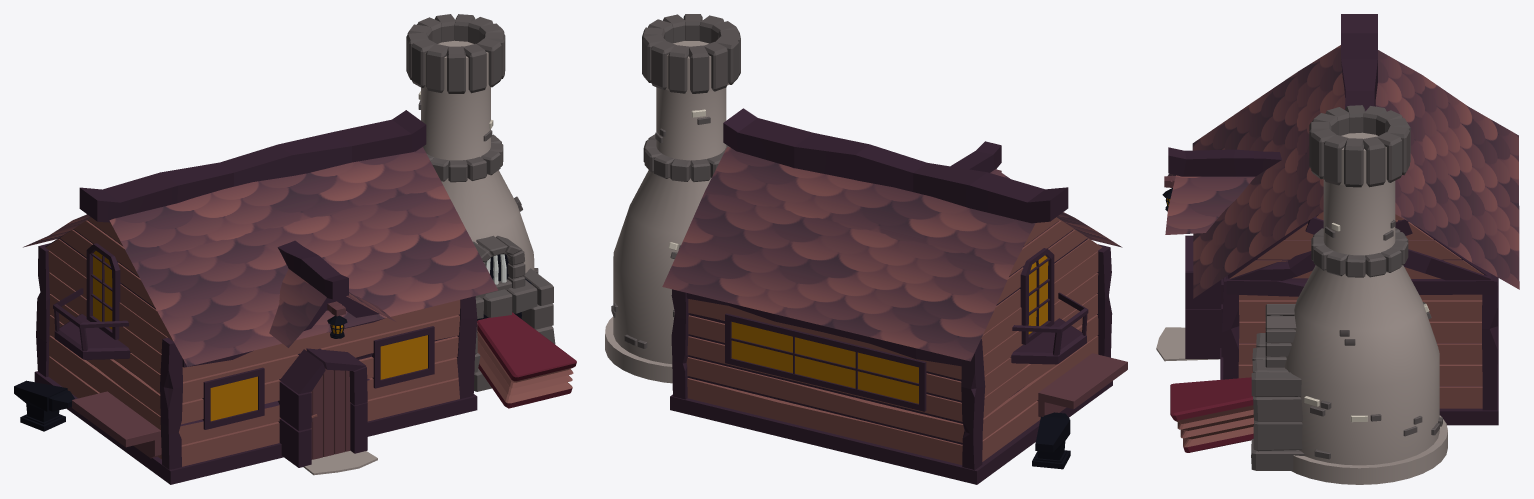
The model's file is casa-madeira10.fbx.
The picture shows the model from 3 angles, left to right: view 1: azimuth 30°, elevation 25°; view 2: azimuth 150°, elevation 25°; view 3: azimuth 270°, elevation 25°; orthographic projection. The views are drawn at different scales.
Visible parts, largest first — view 1: CasaMadeira10_LOD0, PortaCasaMadeira10; view 2: CasaMadeira10_LOD0; view 3: CasaMadeira10_LOD0.
Boxes of the visible parts, x1,y1,x2,y2 form: CasaMadeira10_LOD0: [14, 14, 576, 484]; PortaCasaMadeira10: [310, 368, 350, 459]; CasaMadeira10_LOD0: [605, 14, 1127, 484]; CasaMadeira10_LOD0: [1156, 14, 1519, 484].
Size of what is drawn, in the model's own units: 9.56 by 6.01 by 6.13.
